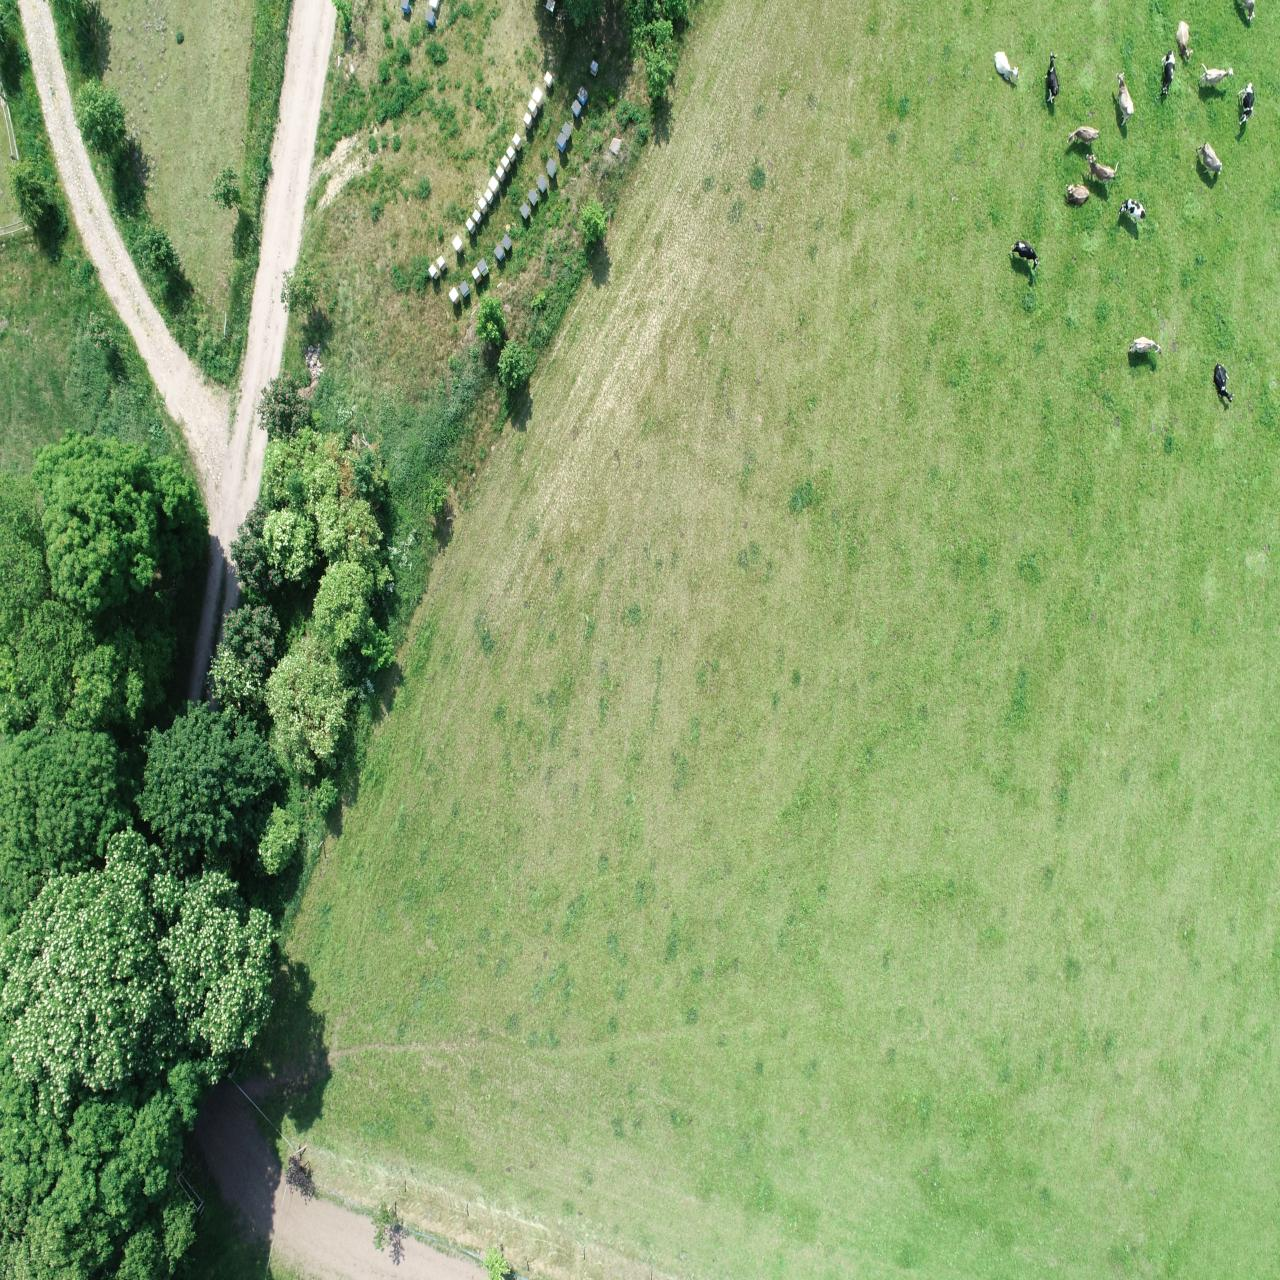cow: (1112, 68, 1137, 128), (1084, 151, 1121, 186), (1128, 334, 1165, 366), (1198, 60, 1235, 90), (1212, 361, 1237, 407), (1042, 52, 1063, 104), (1009, 239, 1042, 272), (1196, 139, 1223, 179), (993, 49, 1021, 86), (1158, 48, 1177, 98), (1062, 179, 1091, 207), (1176, 20, 1194, 63), (1117, 198, 1148, 224), (1241, 81, 1255, 128), (1065, 123, 1098, 143), (1238, 0, 1257, 22)
